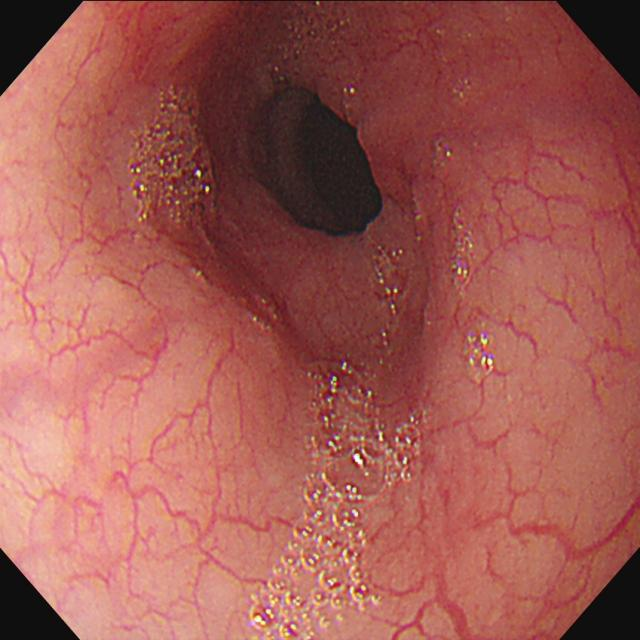E: (254, 91, 385, 235)
T: (250, 356, 427, 639), (127, 87, 221, 225), (271, 2, 354, 84), (373, 244, 406, 349), (451, 209, 476, 283), (465, 332, 496, 383)
